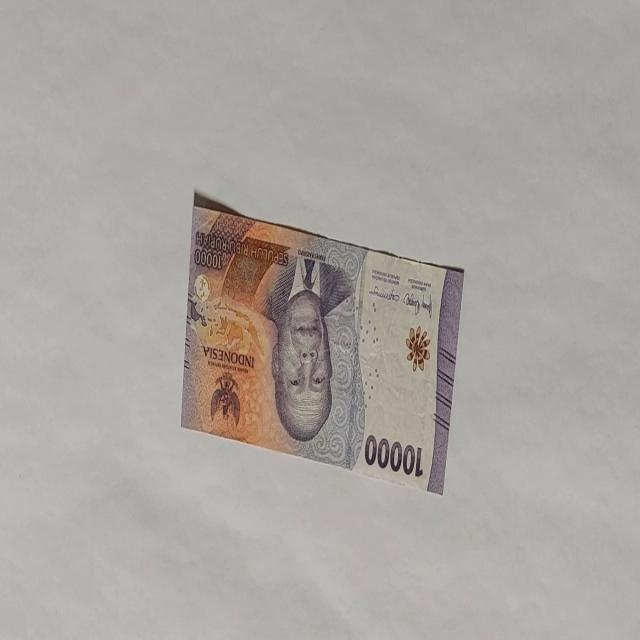sepuluh ribu rupiah: (180, 196, 464, 496), (254, 249, 354, 446), (363, 433, 424, 478)
